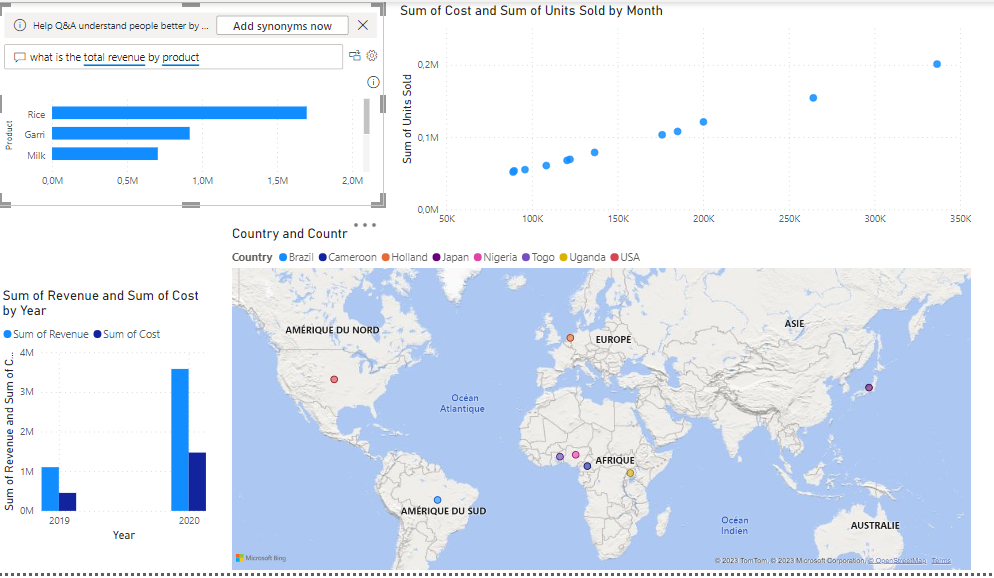

This screenshot's page, from the dashboard's own definition file:
{"tool":"powerbi","page":{"name":"Page 1","canvas":[1280,720],"ordinal":0},"visuals":[{"type":"clusteredColumnChart","fields":{"Category":["Sales.Date.Variation.Date Hierarchy.Year","Sales.Date.Variation.Date Hierarchy.Quarter","Sales.Date.Variation.Date Hierarchy.Month","Sales.Date.Variation.Date Hierarchy.Day"],"Y":["Sum(Sales.Revenue)","Sum(Sales.Cost)"]},"box":[9.4,359.1,266.5,325],"z":0},{"type":"scatterChart","fields":{"Category":["Sales.Date.Variation.Date Hierarchy.Month"],"X":["Sum(Sales.Cost)"],"Y":["Sum(Sales.Units Sold)"]},"box":[510.2,0,729.5,304.3],"z":1000},{"type":"map","fields":{"Category":["Customers.Country"],"Series":["Customers.Country"]},"box":[298.6,281.6,941.1,438.4],"z":2000},{"type":"qnaVisual","box":[7.6,0,487.6,257],"z":3000}]}

Visuals, with their boxes in screenshot pixels (x1, y1, x2, y2):
clusteredColumnChart - Sales.Date.Variation.Date Hierarchy.Year x Sales.Date.Variation.Date Hierarchy.Quarter: Rect(25, 293, 229, 542)
scatterChart - Sales.Date.Variation.Date Hierarchy.Month x Sum(Sales.Cost): Rect(409, 18, 968, 251)
map - Customers.Country x Customers.Country: Rect(247, 234, 968, 570)
qnaVisual: Rect(24, 18, 397, 215)
